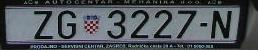-: (199, 22, 208, 28)
2: (130, 9, 150, 40), (154, 10, 173, 40)
3: (108, 10, 126, 40)
7: (176, 8, 198, 40)
G: (56, 10, 78, 41)
N: (210, 9, 232, 39)
Z: (33, 10, 53, 39)
